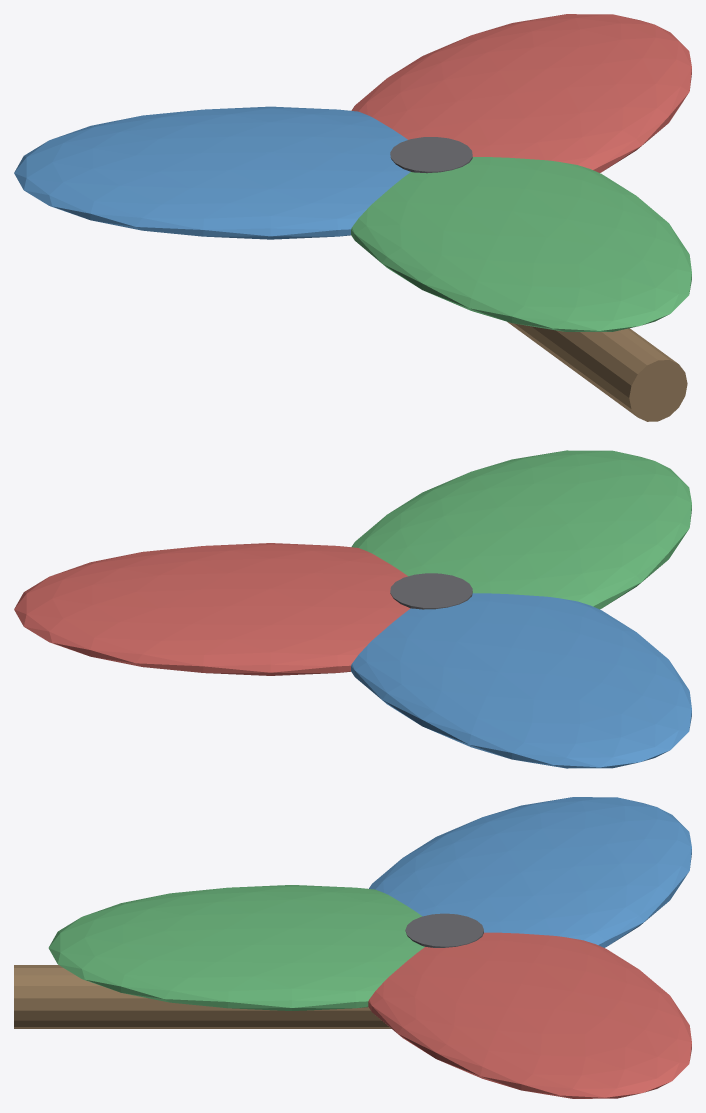
The model's file is windman_fan.glb.
The picture shows the model from 3 angles, top to bottom: view 1: azimuth 30°, elevation 25°; view 2: azimuth 150°, elevation 25°; view 3: azimuth 270°, elevation 25°; orthographic projection. The views are drawn at different scales.
Parts seen in each view (by area): view 1: geometry_0; view 2: geometry_0; view 3: geometry_0.
Part boxes in pixels (box(x1,y1,x2,y2)): geometry_0: box(14, 14, 691, 421); geometry_0: box(14, 450, 691, 768); geometry_0: box(14, 797, 691, 1098).
Bounding box in the file's own units: 0.2881 × 0.0438 × 0.2754.
